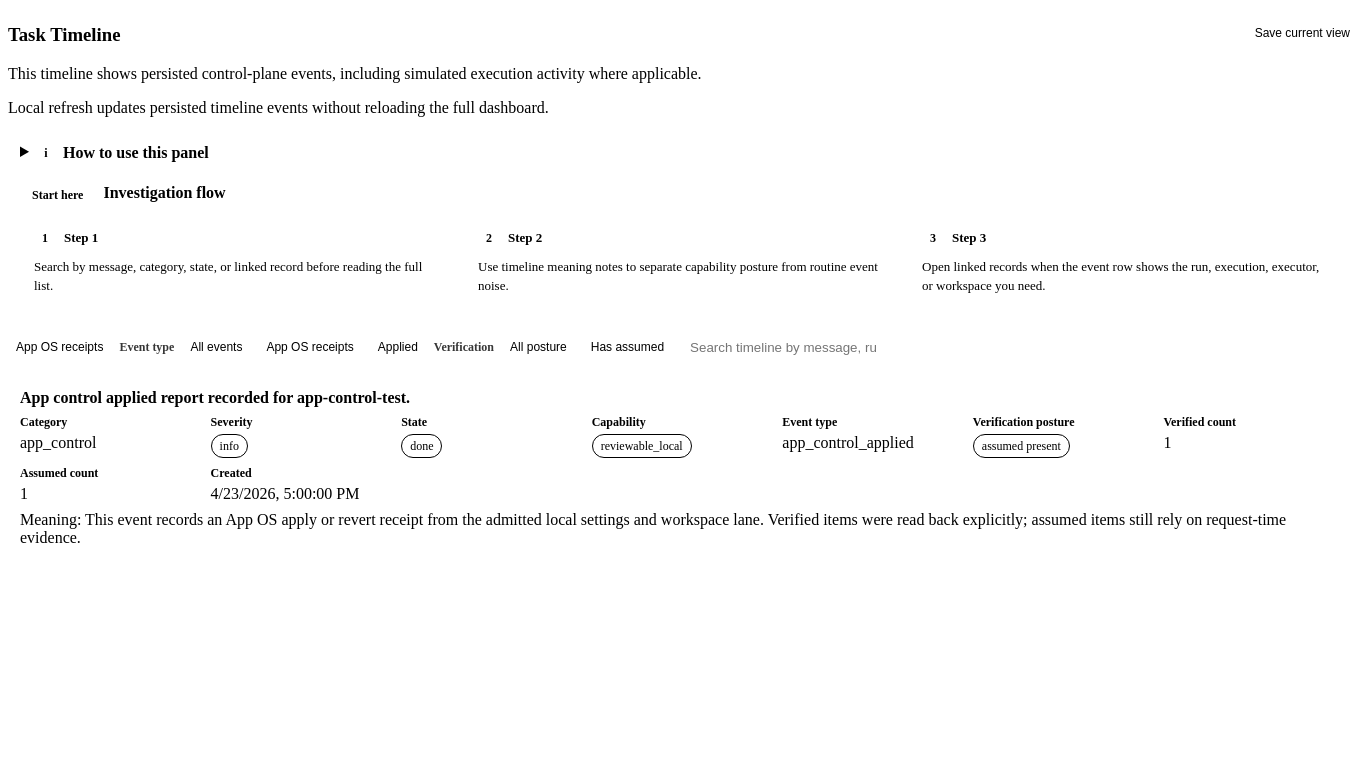
TaskTimeline › restores the last non-empty filter stack before other empty-state recovery options
Click the 2nd button "App OS receipts": click(310, 347) [258,338,362,356]
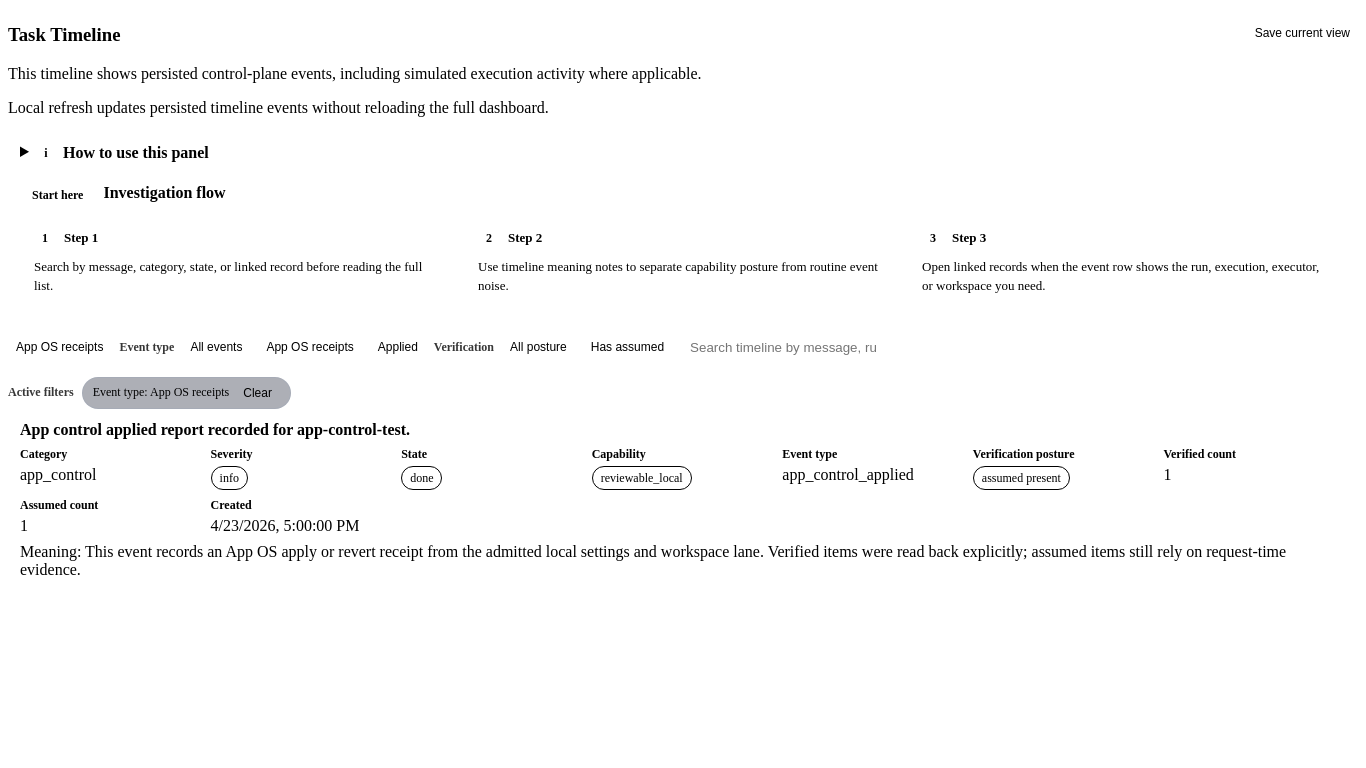
Replace the text in the search field with "no-match": (790, 347) [680,334,900,361]
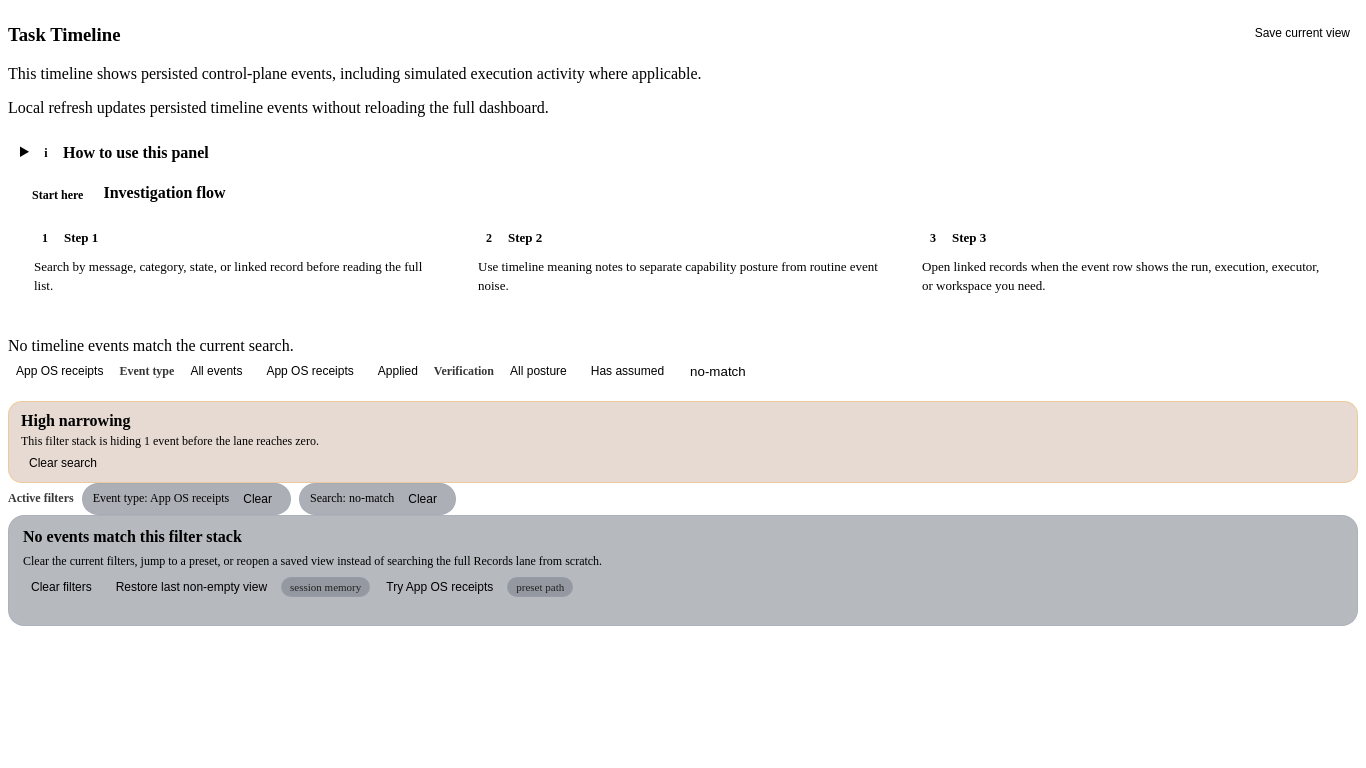
Expected: the button "Restore last non-empty view" is shown
Expected: the text "session memory" is shown, [281,577,370,597]
Click the button "Restore last non-empty view": click(191, 587) [108,578,275,596]
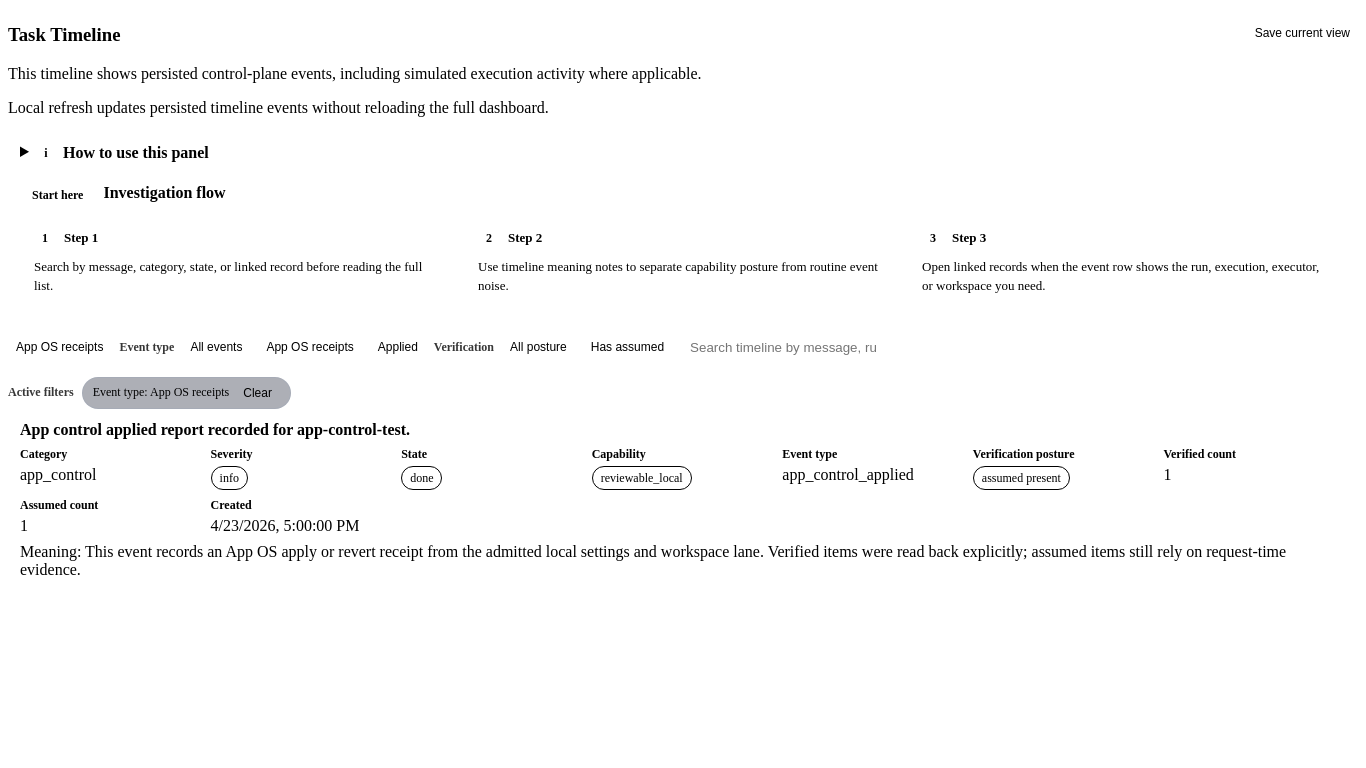
Expected: the search field is empty, [680,334,900,361]
Expected: the text "No events match this filter stack" is gone
Expected: the text "App control applied report recorded for app-control-test." is shown, [20,421,410,438]
